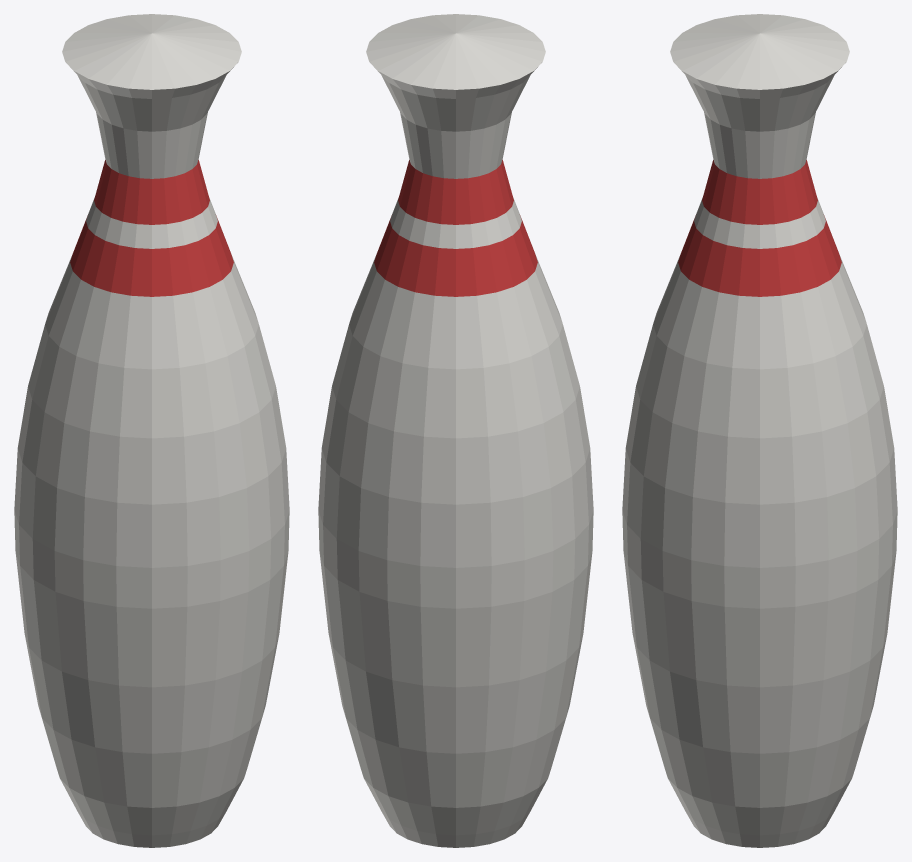
The model's file is BowlingPin01.glb.
The picture shows the model from 3 angles, left to right: view 1: azimuth 30°, elevation 25°; view 2: azimuth 150°, elevation 25°; view 3: azimuth 270°, elevation 25°; orthographic projection.
Parts seen in each view (by area): view 1: BowlingPin01; view 2: BowlingPin01; view 3: BowlingPin01.
Part boxes in pixels (x1,y1,x2,y2): BowlingPin01: [14, 14, 289, 847]; BowlingPin01: [318, 14, 593, 847]; BowlingPin01: [622, 14, 897, 847].
Size of the model in its own units: 0.121 by 0.381 by 0.121.
